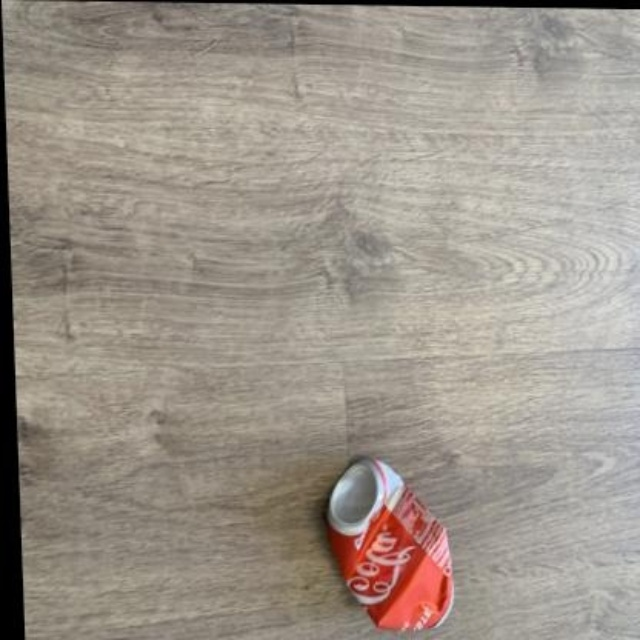trash: (326, 458, 452, 628)
